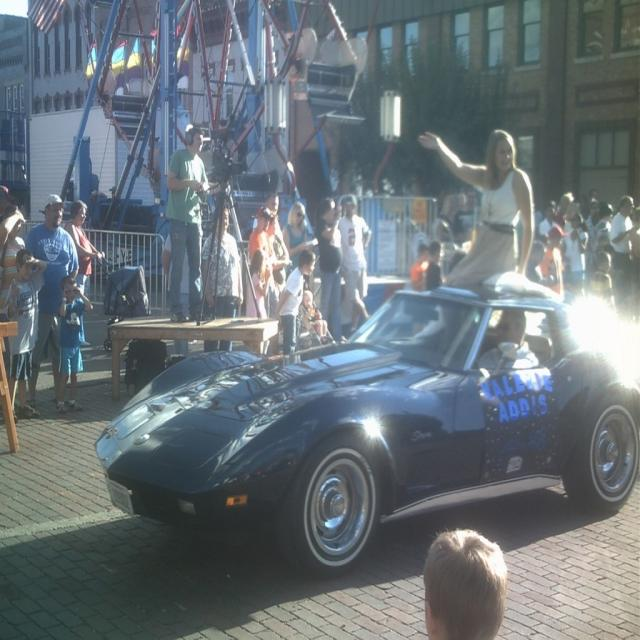car: (103, 251, 627, 574)
